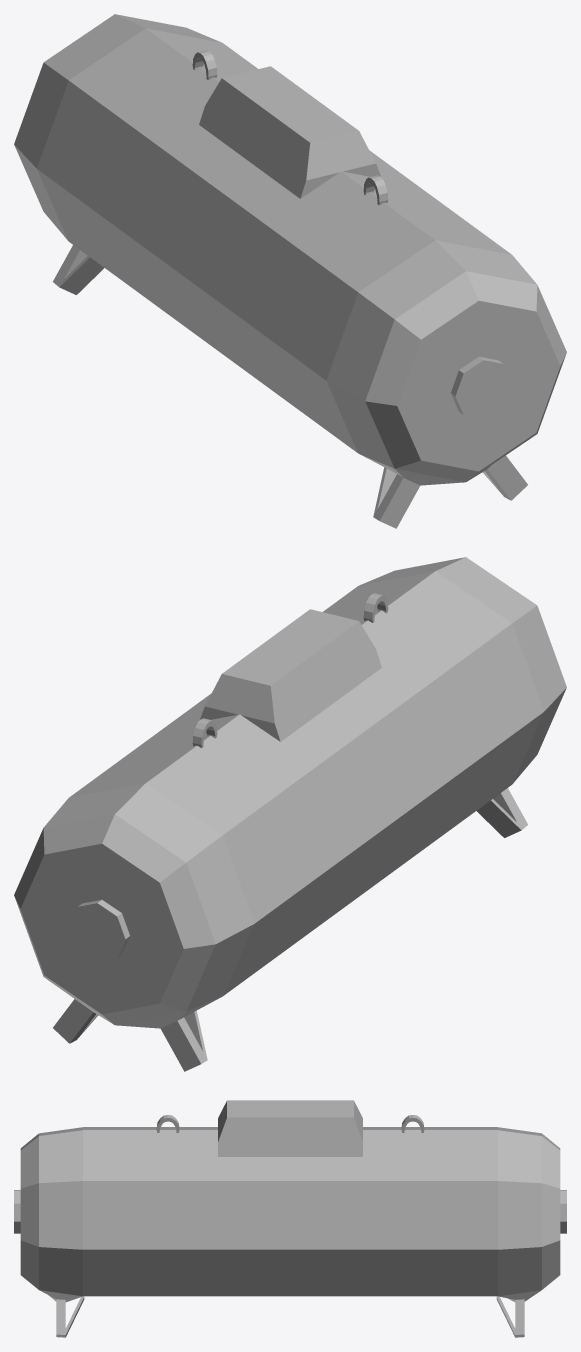
Rendered from GazTank.fbx.
The picture shows the model from 3 angles, top to bottom: view 1: azimuth 30°, elevation 25°; view 2: azimuth 150°, elevation 25°; view 3: azimuth 270°, elevation 25°; orthographic projection. The views are drawn at different scales.
Visible parts, largest first — view 1: Cylinder.001; view 2: Cylinder.001; view 3: Cylinder.001.
Part boxes in pixels (x1=…): Cylinder.001: x1=14, y1=14, x2=566, y2=528; Cylinder.001: x1=14, y1=557, x2=566, y2=1071; Cylinder.001: x1=14, y1=1100, x2=566, y2=1337.
Bounding box in the file's own units: 901 × 1154 × 2767.
1 material, 1 textured.
